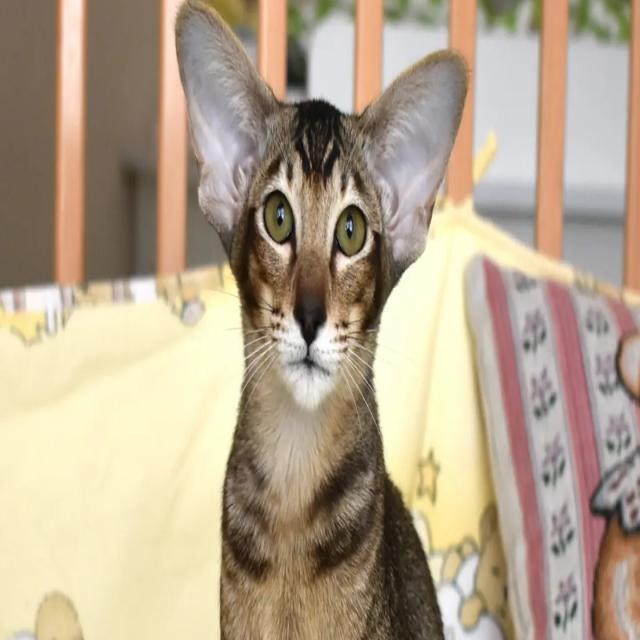Oriental: (173, 0, 472, 640)
